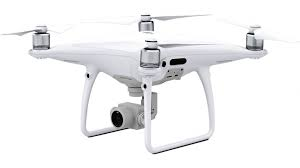Drone: (8, 5, 296, 147)
